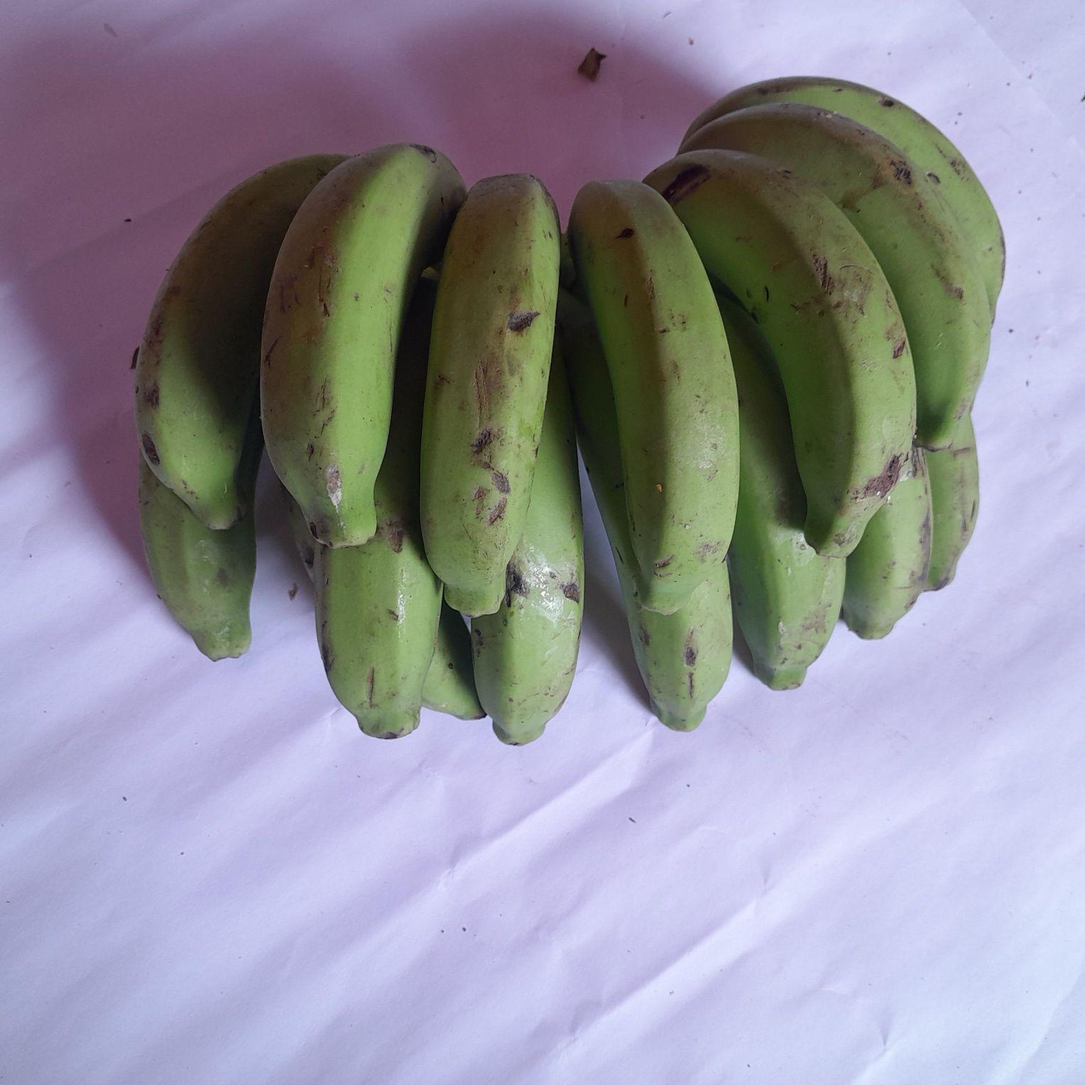Banana Unripe: (0, 0, 1085, 1085), (644, 150, 915, 556), (680, 104, 992, 449), (261, 144, 466, 548), (136, 155, 345, 530), (570, 180, 740, 615), (422, 174, 559, 616), (314, 288, 443, 737), (718, 295, 846, 689), (470, 350, 585, 744), (140, 417, 263, 660), (621, 564, 733, 730), (843, 447, 932, 638), (926, 413, 979, 588)
